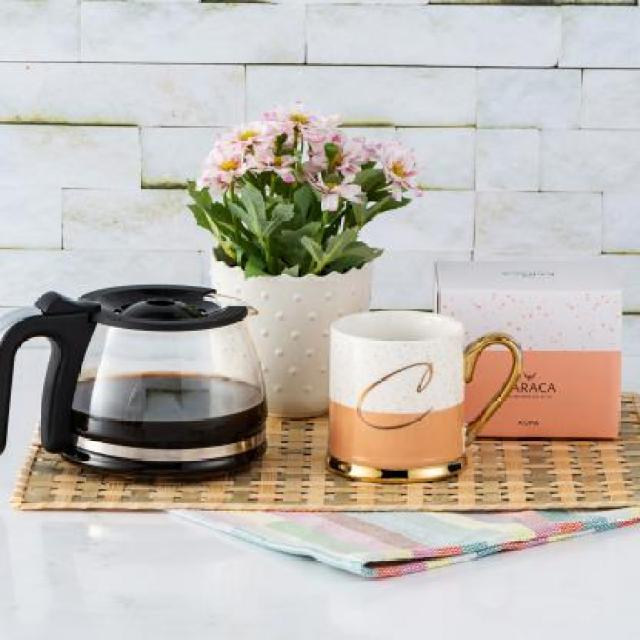taza: (328, 307, 522, 485)
